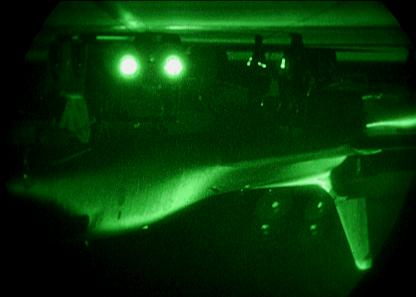AV8B: (4, 48, 416, 270)
